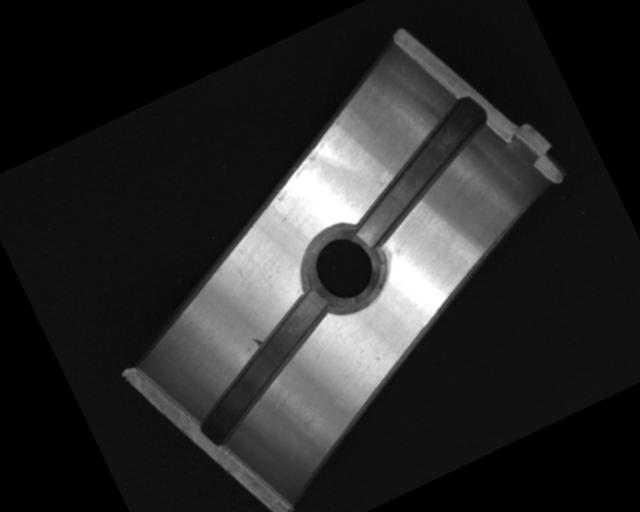bruise: (250, 332, 266, 348)
gap: (168, 287, 359, 448), (324, 93, 514, 250)
hole: (293, 216, 393, 320)
